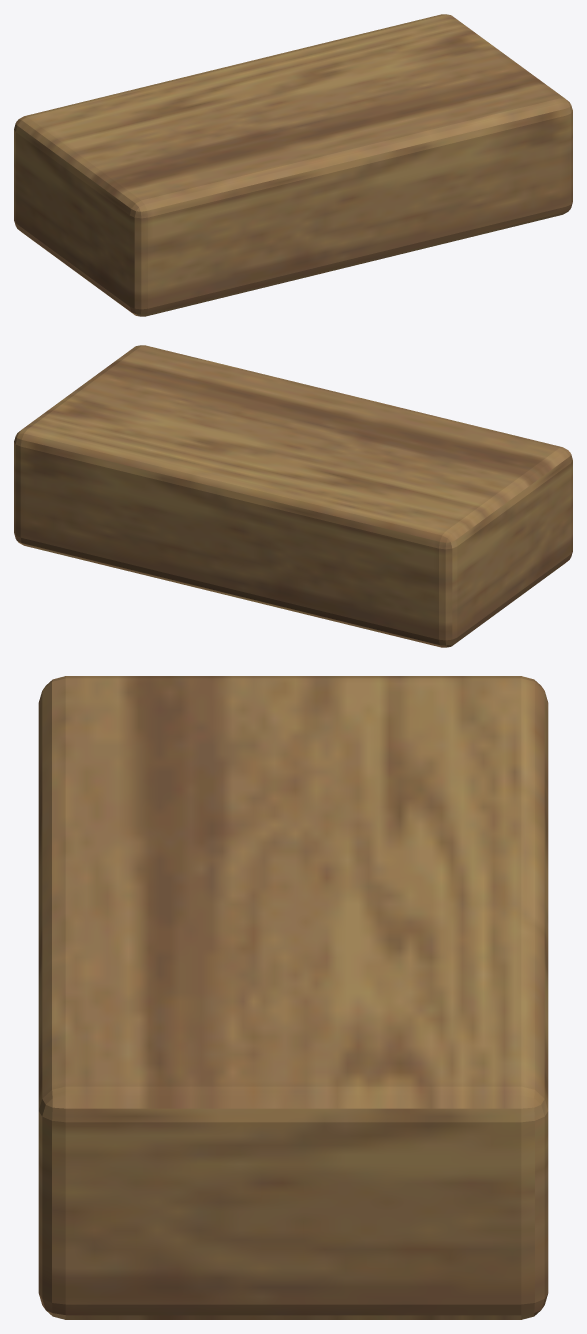
The model's file is DarkRectangle.fbx.
3 renders of one model, top to bottom at view 1: azimuth 30°, elevation 25°; view 2: azimuth 150°, elevation 25°; view 3: azimuth 270°, elevation 25°, orthographic. The views are drawn at different scales.
Visible parts, largest first — view 1: Cube.020; view 2: Cube.020; view 3: Cube.020.
Boxes of the visible parts, x1,y1,x2,y2 form: Cube.020: [14, 14, 572, 316]; Cube.020: [14, 345, 572, 647]; Cube.020: [38, 676, 548, 1319].
Size of the model in its own units: 800 by 200 by 400.
